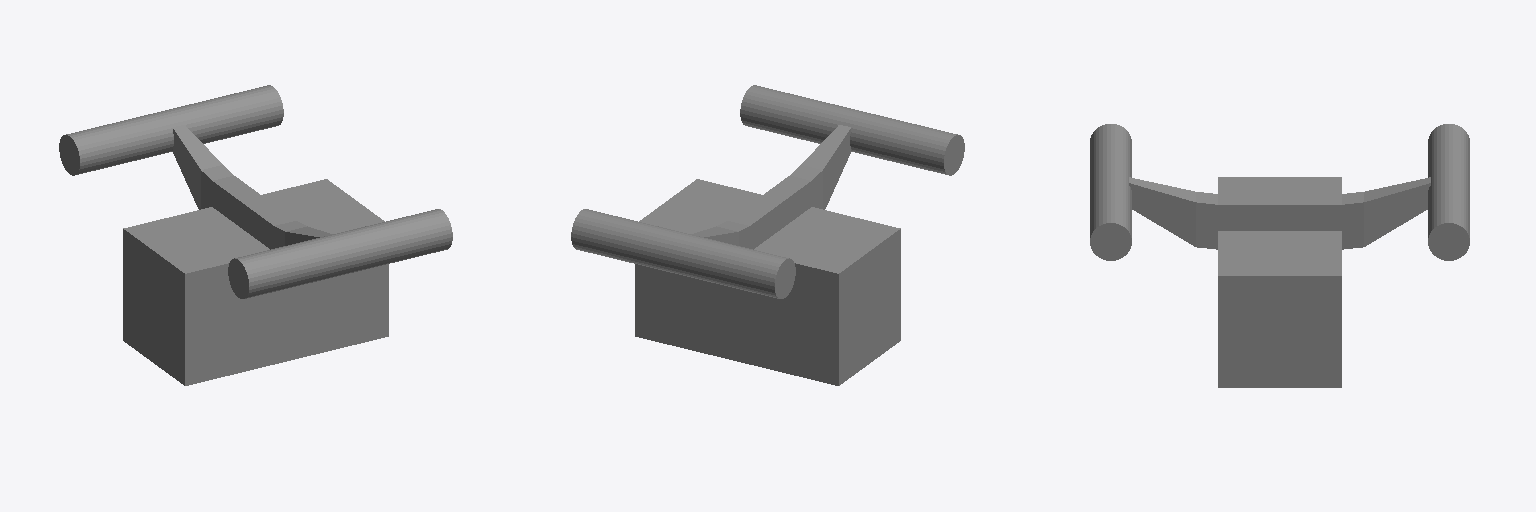
The model's file is coasterTrackShort.obj.
The picture shows the model from 3 angles: view 1: azimuth 30°, elevation 25°; view 2: azimuth 150°, elevation 25°; view 3: azimuth 270°, elevation 25°; orthographic projection.
Parts seen in each view (by area): view 1: obj2, obj4, obj1, obj3; view 2: obj2, obj1, obj4, obj3; view 3: obj2, obj3, obj1, obj4.
Boxes of the visible parts, x1=… form: obj2: x1=123, y1=179, x2=388, y2=385; obj4: x1=228, y1=209, x2=452, y2=298; obj1: x1=59, y1=85, x2=283, y2=175; obj3: x1=173, y1=125, x2=332, y2=249; obj2: x1=635, y1=179, x2=900, y2=385; obj1: x1=571, y1=209, x2=795, y2=298; obj4: x1=740, y1=85, x2=964, y2=175; obj3: x1=691, y1=125, x2=850, y2=249; obj2: x1=1218, y1=177, x2=1341, y2=387; obj3: x1=1129, y1=177, x2=1430, y2=249; obj1: x1=1428, y1=124, x2=1469, y2=260; obj4: x1=1090, y1=124, x2=1131, y2=260.
Size of the model in its own units: 163 by 127 by 264.